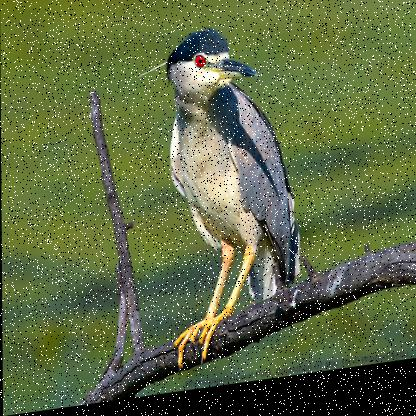Burung: (160, 25, 299, 374)
